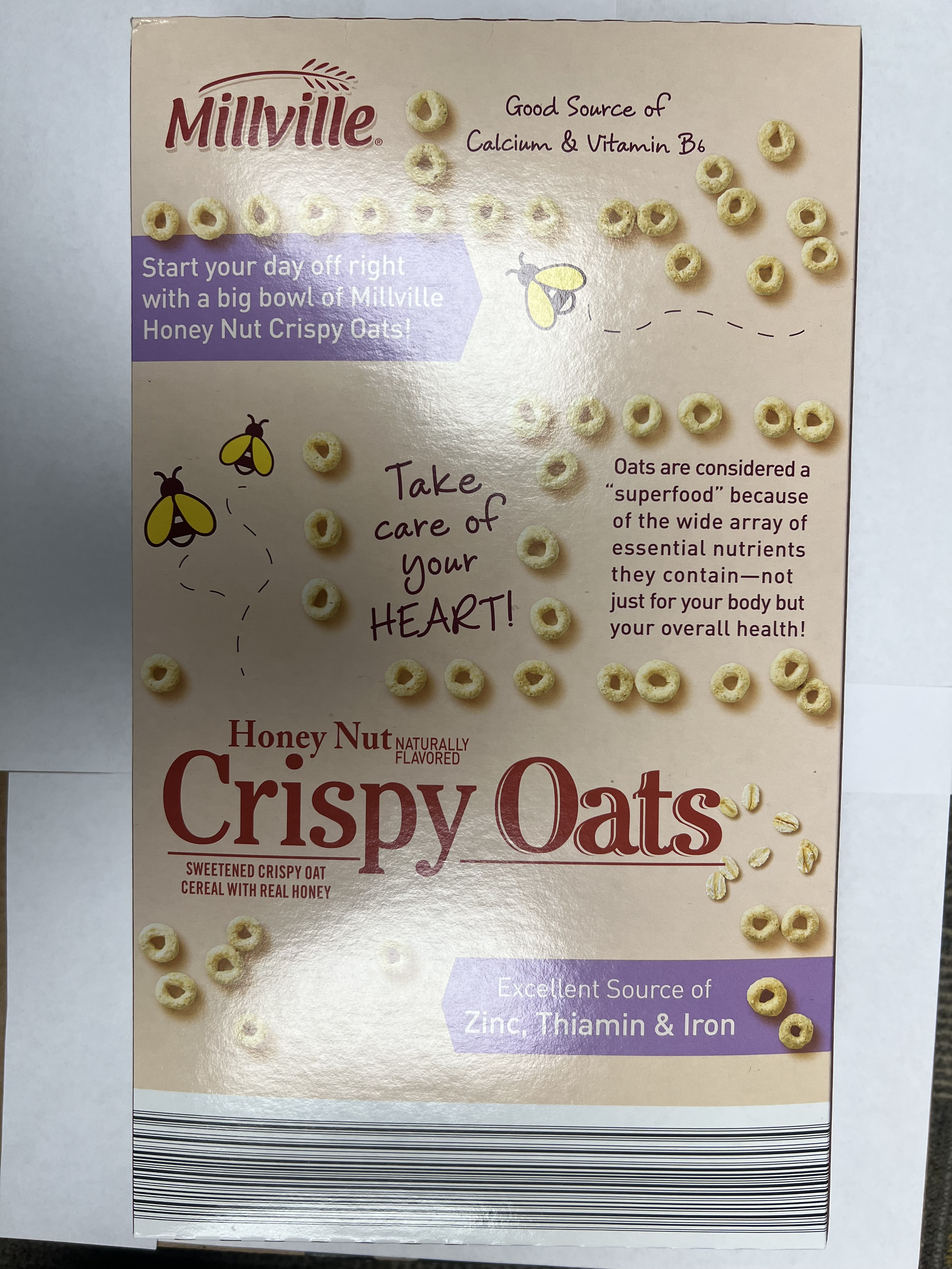packaged: (121, 39, 870, 1252)
